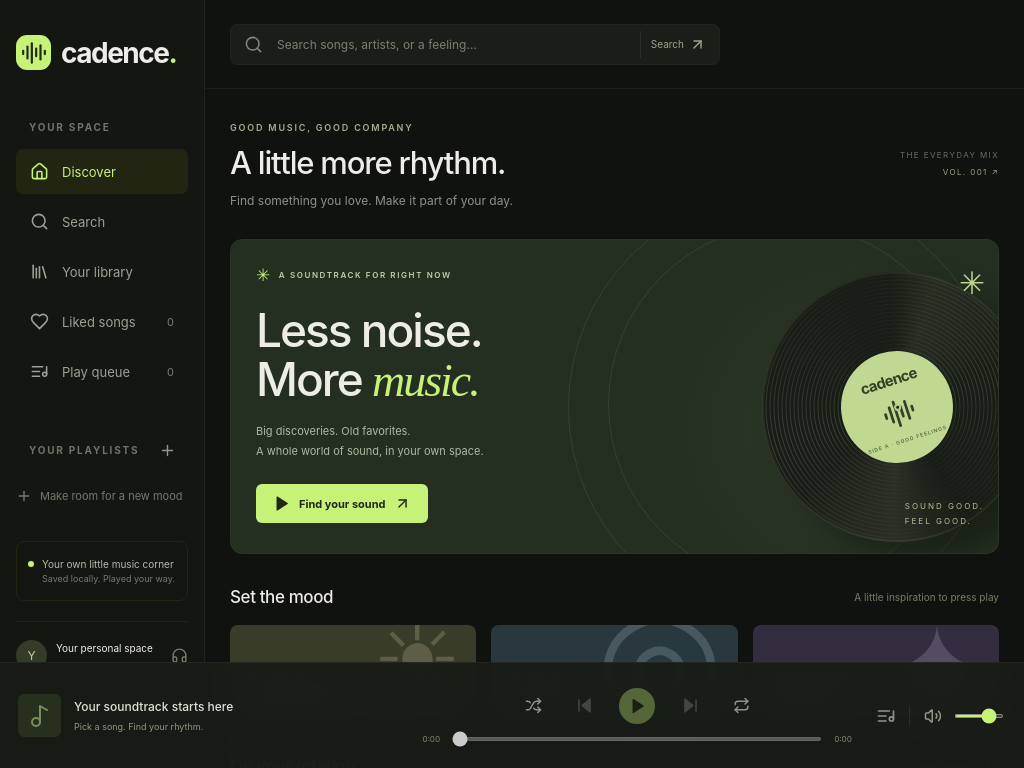
Test: music app › searches, likes and queues a song
Type "Ocean" into the field named "Search YouTube". click: {"x": 451, "y": 44}
box: x1=275 y1=36 x2=628 y2=52
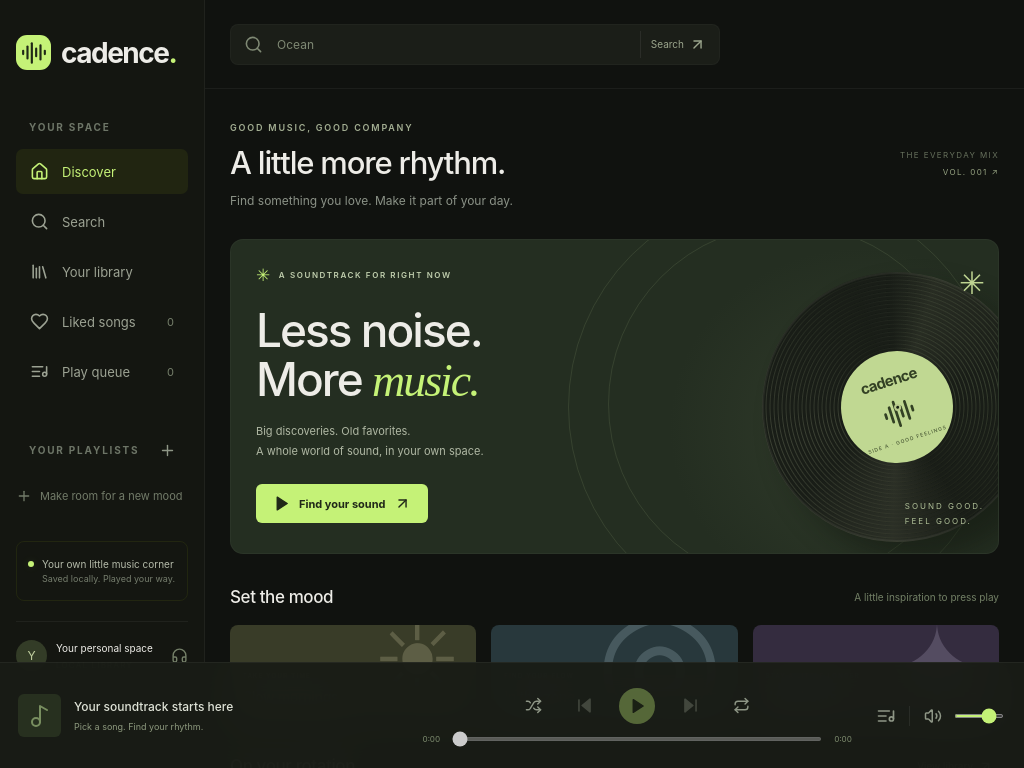
Click the button with aria-label "Submit search". click: {"x": 673, "y": 44}
box: x1=640 y1=30 x2=706 y2=58
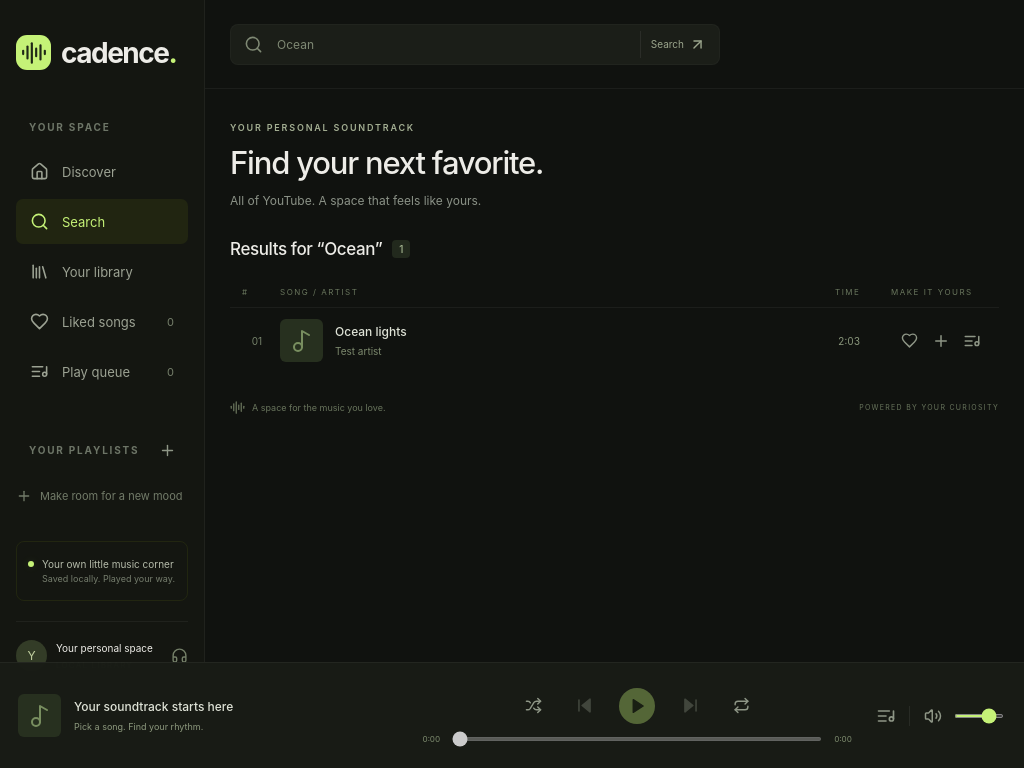
Expected: the button named "Play Ocean lights" is shown, x1=242 y1=335 x2=272 y2=347
Click the button named "Like Ocean lights". click: {"x": 910, "y": 341}
box: x1=894 y1=325 x2=925 y2=357
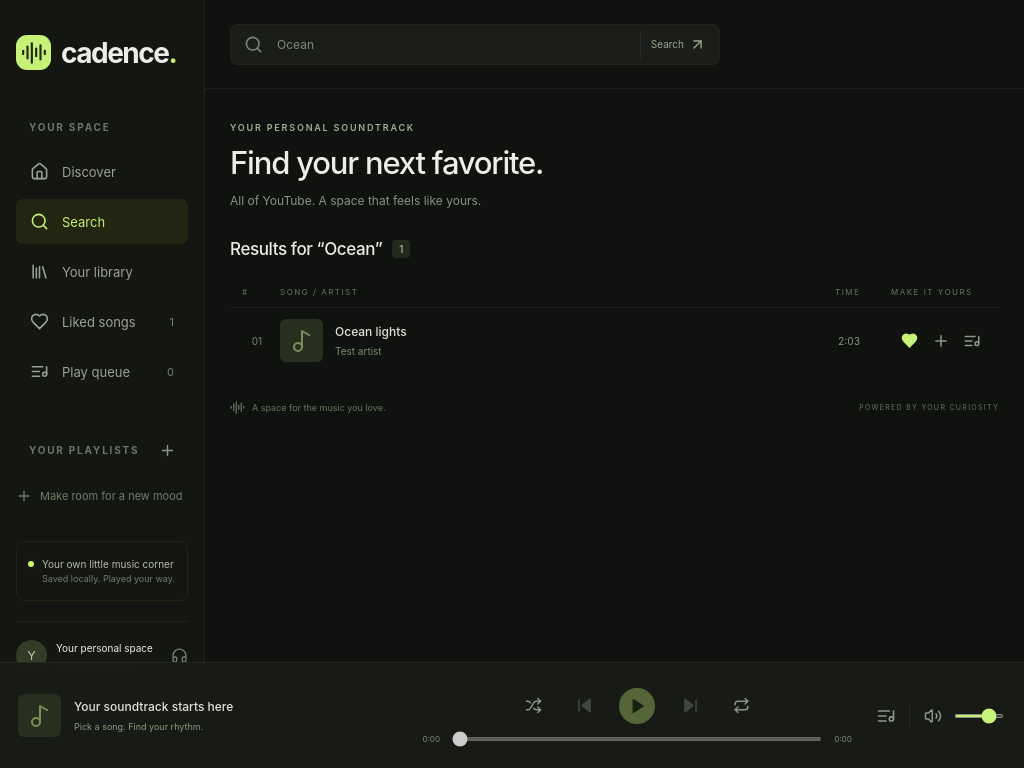
Now the button named "Unlike Ocean lights" is shown, box x1=894 y1=325 x2=925 y2=357
Click the button named "Add Ocean lights to queue". click: {"x": 972, "y": 341}
box: x1=956 y1=325 x2=987 y2=357
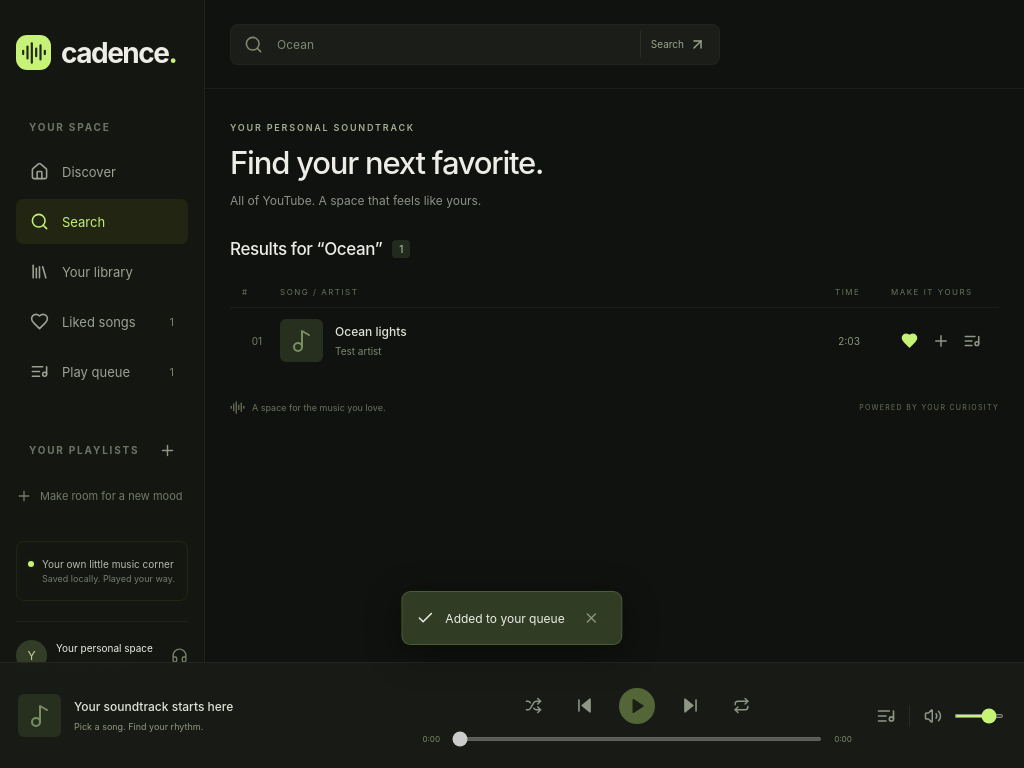
Now the text "Added to your queue" is shown, box x1=401 y1=591 x2=623 y2=645
Click the button "Play queue 1". click: {"x": 102, "y": 372}
box: x1=16 y1=349 x2=188 y2=394
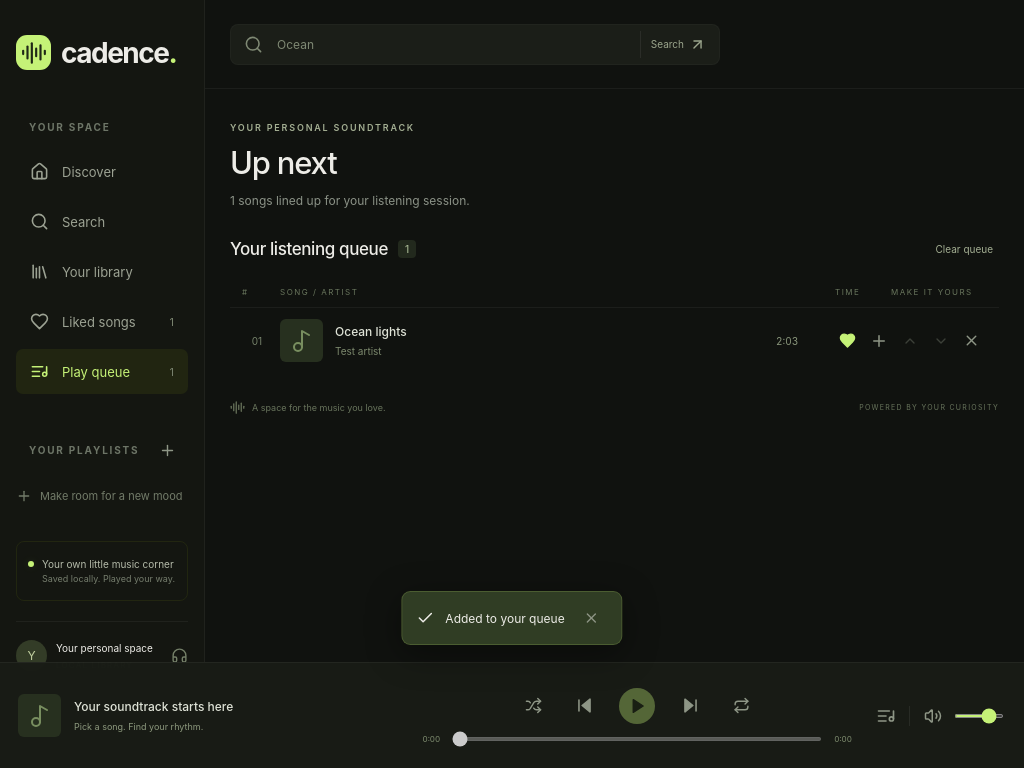
Now the heading "Up next" is shown, box x1=230 y1=144 x2=336 y2=181
Now the button named "Remove Ocean lights from queue" is shown, box x1=956 y1=325 x2=987 y2=357
